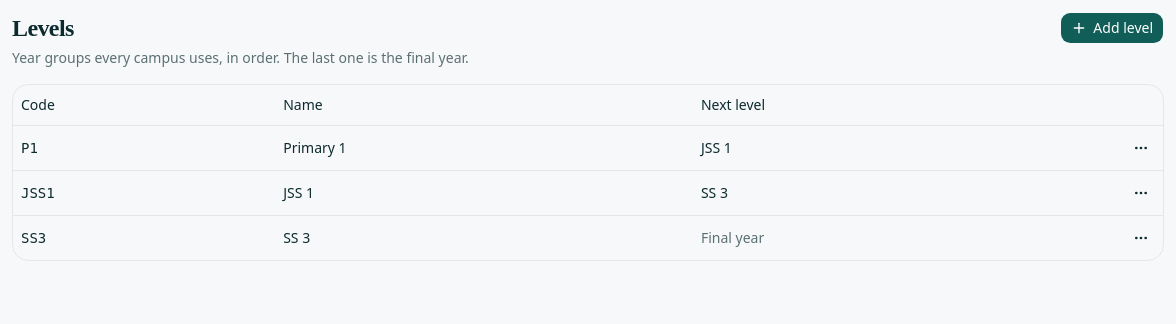
LevelsPage › gives a class:update holder Add, Edit and the move controls
Check: the button "Add level" is shown, box [1060, 12, 1164, 44]
Check: the text "Primary 1" is shown, box [275, 125, 693, 170]
What coordinates should you click on to do the following:
click the button named "Actions for JSS 1"
I would click on:
 (1141, 192)
Its box is [1127, 178, 1155, 206].
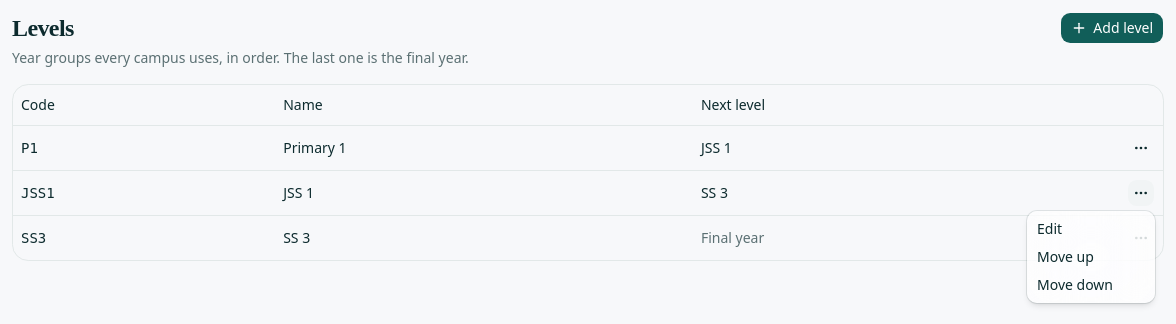
Check: the menu item "Edit" is shown, box [1037, 219, 1062, 238]
Check: the menu item "Move up" is shown, box [1037, 247, 1094, 266]
Check: the menu item "Move down" is shown, box [1037, 275, 1113, 294]
